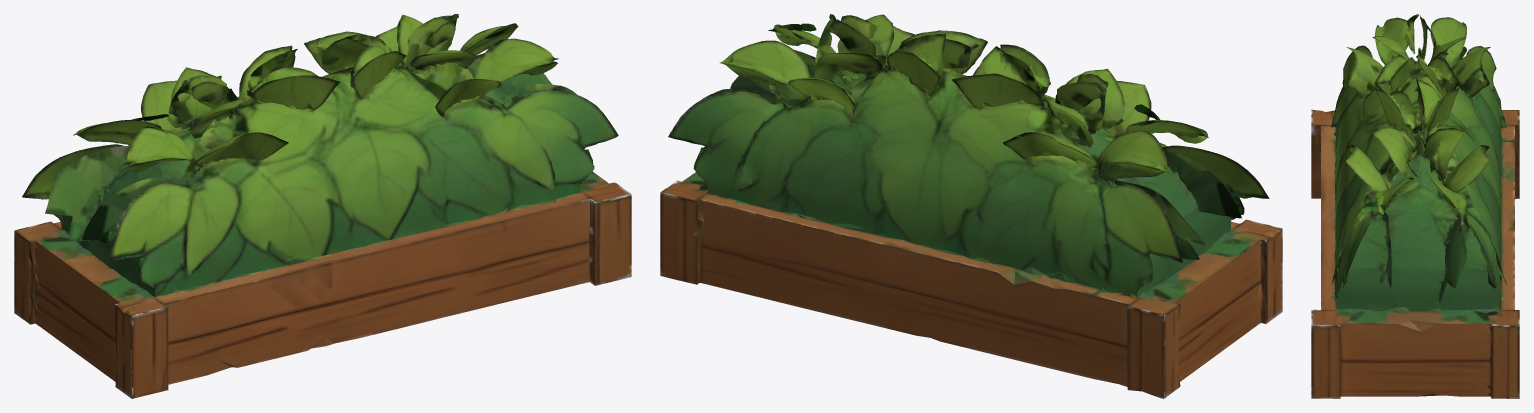
The model's file is Furn_BramBed.glb.
3 views of the same model, side by side, from view 1: azimuth 30°, elevation 25°; view 2: azimuth 150°, elevation 25°; view 3: azimuth 270°, elevation 25° (orthographic). The views are drawn at different scales.
Visible parts, largest first — view 1: Furn_BramBed; view 2: Furn_BramBed; view 3: Furn_BramBed.
Boxes of the visible parts, x1,y1,x2,y2 form: Furn_BramBed: (14, 14, 631, 398); Furn_BramBed: (660, 14, 1282, 398); Furn_BramBed: (1311, 14, 1519, 398).
Size of the model in its own units: 1.55 by 0.7324 by 0.619.
1 material, 1 textured.
